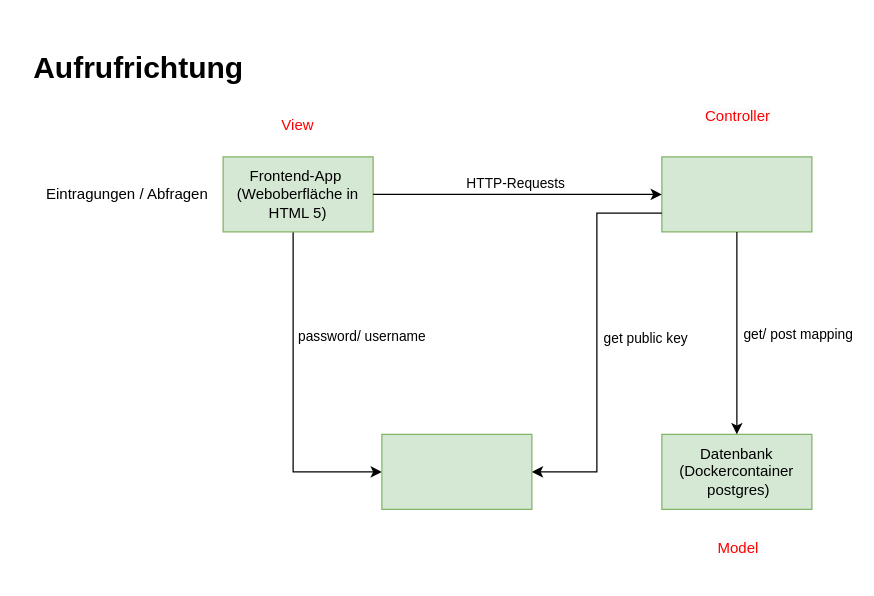
Some shapes in this 874 by 596 pixel diagram are drawn without their labels. Here are the shapes that lost their labels. From the top down, the box of each, then its label:
(661, 156, 812, 232): Backend-App (Springboot Realisation)
(381, 433, 532, 509): Zugriffsverwaltung ( Dockercontainer keycloak)
